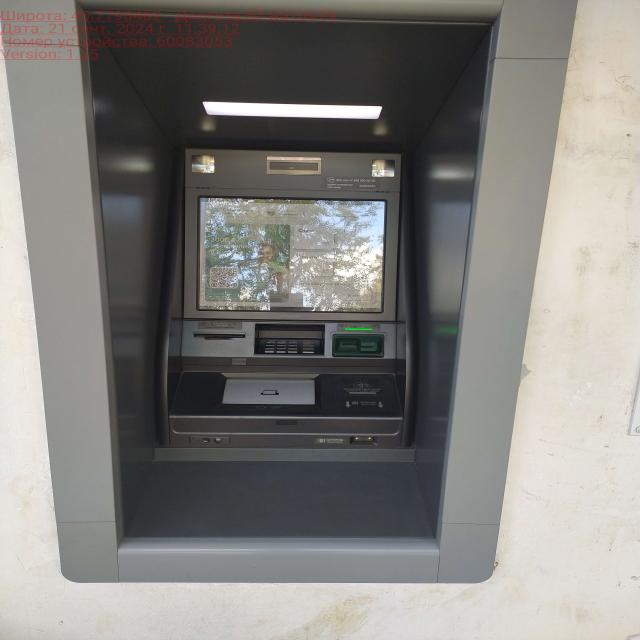bank: (11, 0, 528, 583)
